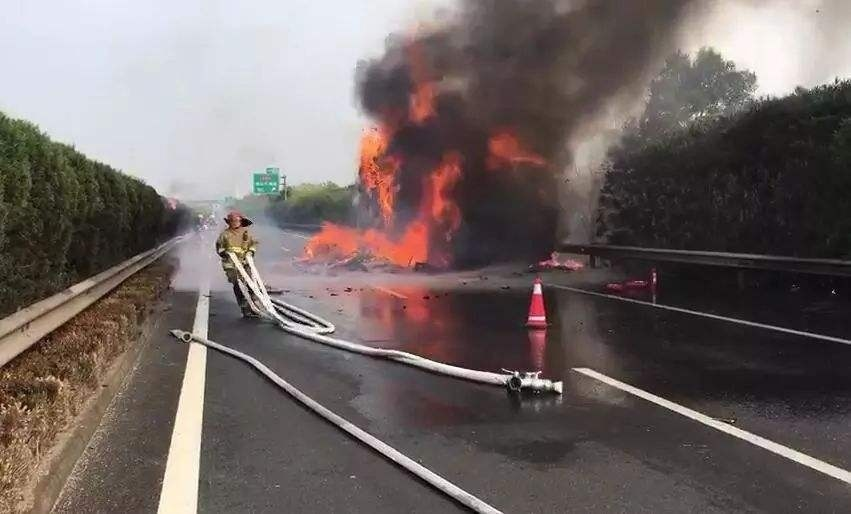fire: (307, 83, 561, 267)
